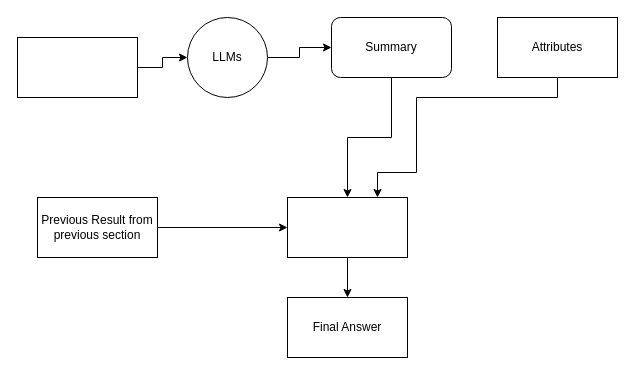
This 635x375 diagram has some shape labels left out. The box of each missing label's shape, as (x1, y1, x2, y2) in pixels:
Prompt: (286, 196, 408, 258)
Section X: (16, 36, 138, 98)
